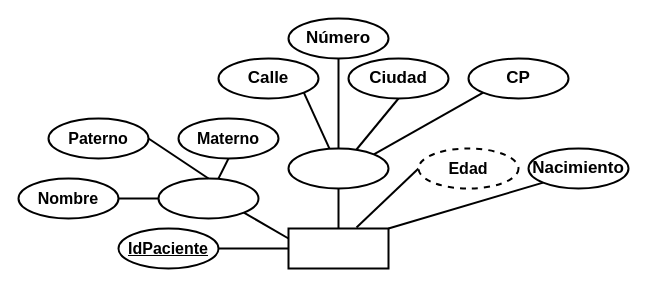
The diagram is 646 pixels wide and 286 high, and some of its shapes have lost their labels. The centre of each missing label's shape, as x and y in pixels:
Dirección: the point at 338,168
NombreC: the point at 208,198
Paciente: the point at 338,248
